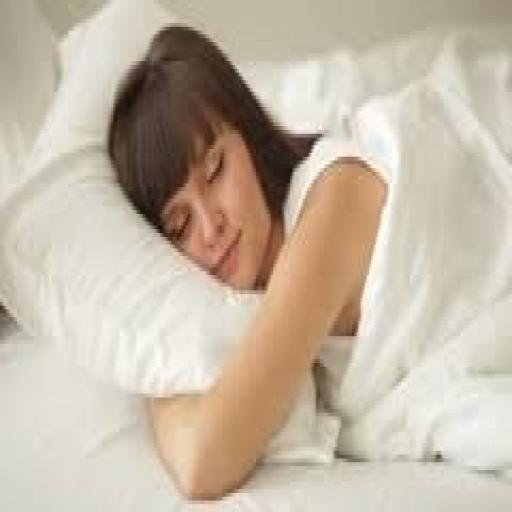sleeping: (104, 19, 510, 501)
